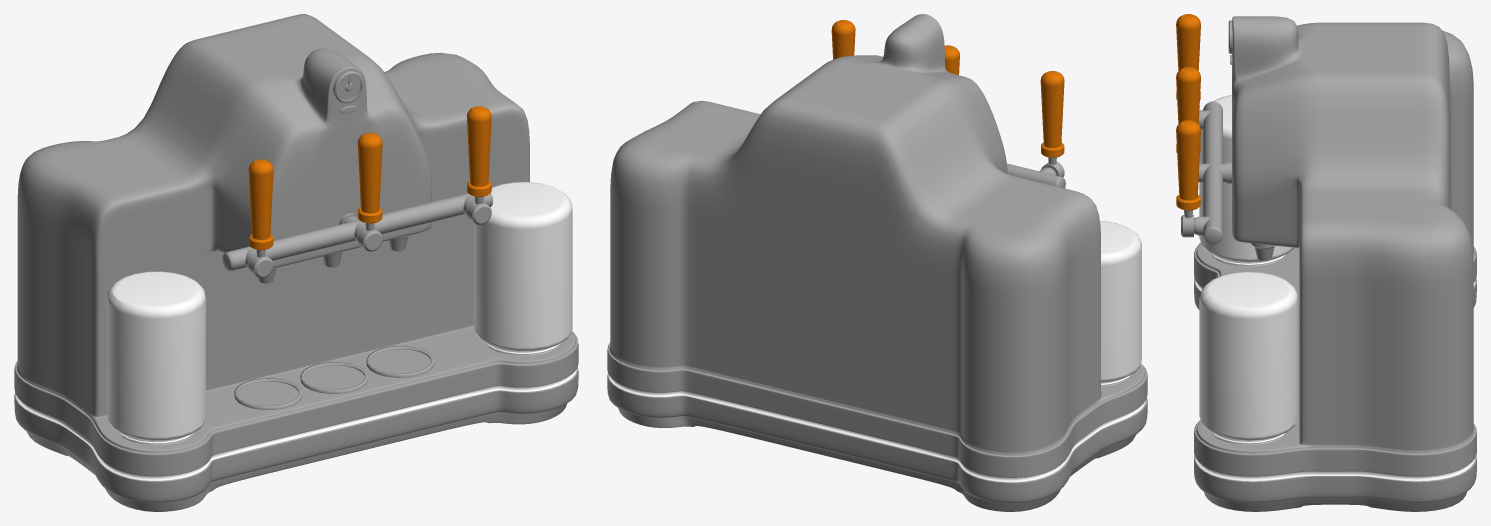
The model's file is SM_coffee_machine.fbx.
3 renders of one model, left to right at view 1: azimuth 30°, elevation 25°; view 2: azimuth 150°, elevation 25°; view 3: azimuth 270°, elevation 25°, orthographic. The views are drawn at different scales.
Visible parts, largest first — view 1: coffee_machine, accents, level_a, level_b, lever_c; view 2: coffee_machine, accents, level_a, lever_c; view 3: coffee_machine, accents, lever_c, level_b, level_a.
Part boxes in pixels (x1,y1,x2,y2): coffee_machine: [14, 14, 578, 511]; accents: [107, 71, 572, 445]; level_a: [248, 159, 273, 278]; level_b: [357, 133, 382, 251]; lever_c: [466, 106, 491, 224]; coffee_machine: [607, 14, 1147, 511]; accents: [1007, 163, 1141, 386]; level_a: [1040, 71, 1064, 177]; lever_c: [831, 20, 855, 59]; coffee_machine: [1194, 16, 1476, 511]; accents: [1197, 20, 1298, 445]; lever_c: [1176, 120, 1200, 237]; level_b: [1176, 67, 1200, 152]; level_a: [1176, 14, 1200, 99].
Bounding box in the file's own units: 1.73 × 1.38 × 0.9751.
